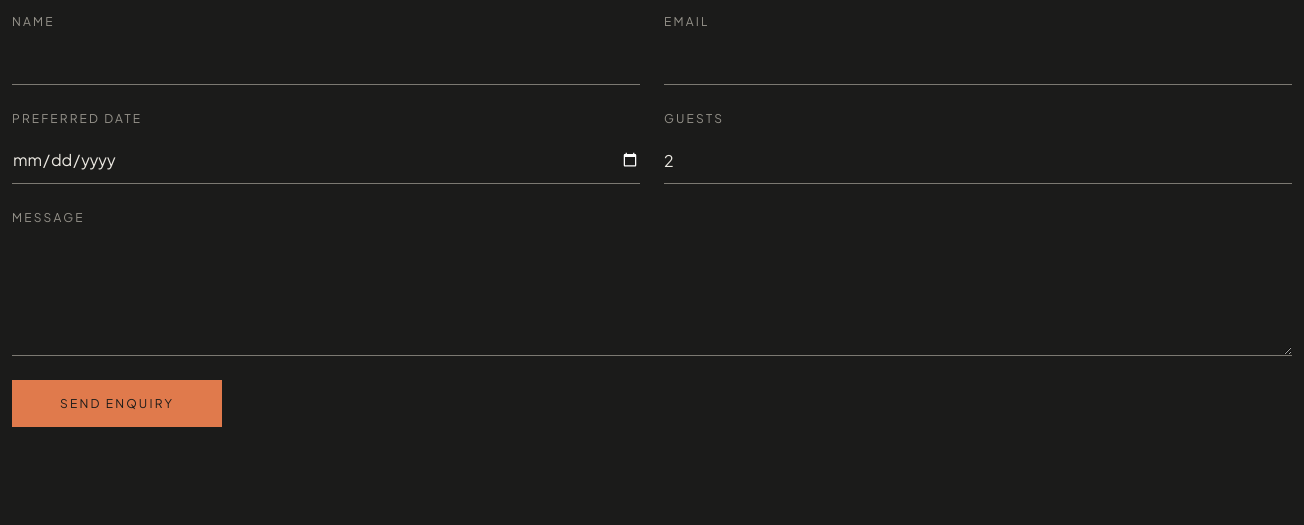
it: EnquiryForm › shows validation errors when submitted empty
What coordinates should you click on to do the following:
click the button "Send enquiry"
I would click on:
 (117, 403)
Its box is [12,380,222,427].
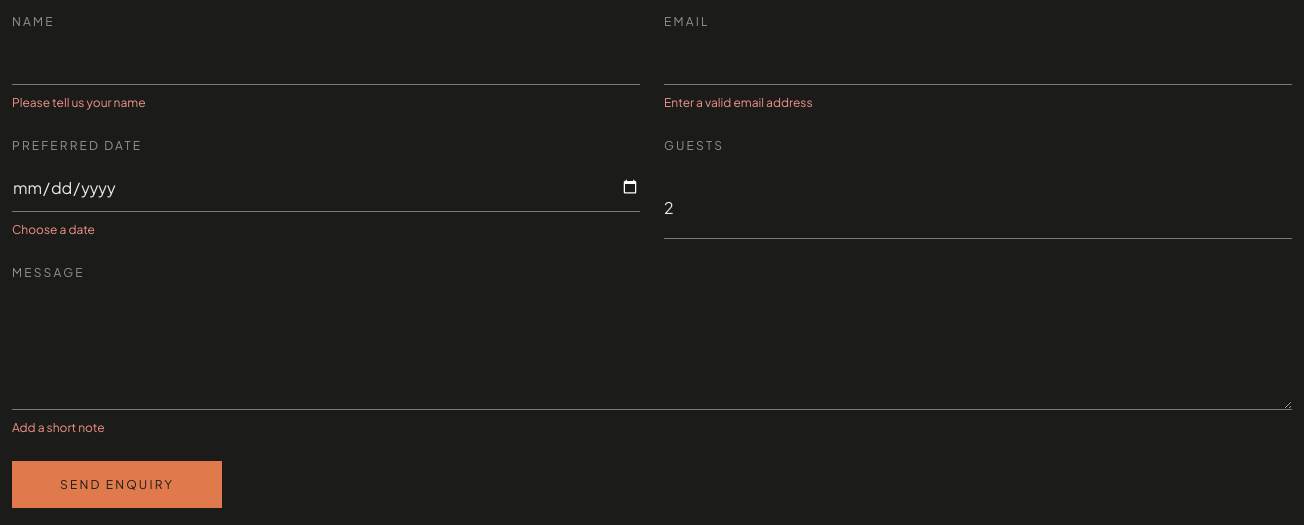
Expected: the text "Please tell us your name" is shown, [12,95,146,110]
Expected: the text "Enter a valid email address" is shown, [664,95,813,110]
